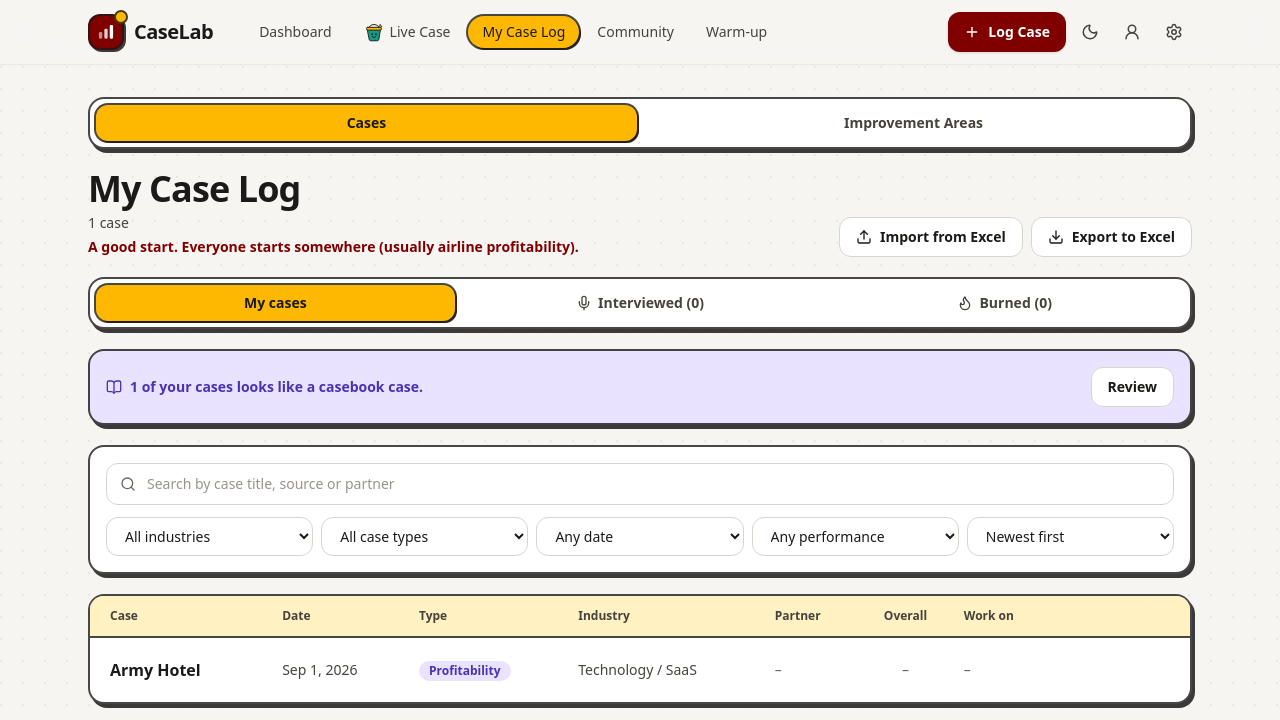
Test: compare with the book › is offered on a case linked to a casebook case that has your feedback, and does nothing until you ask
The width and height of the screenshot is (1280, 720).
Expected: the heading "My Case Log" is shown, [88,164,300,213]
Click the button "Army Hotel". click: (155, 670)
box: [110,659,201,681]
(page scrolled)
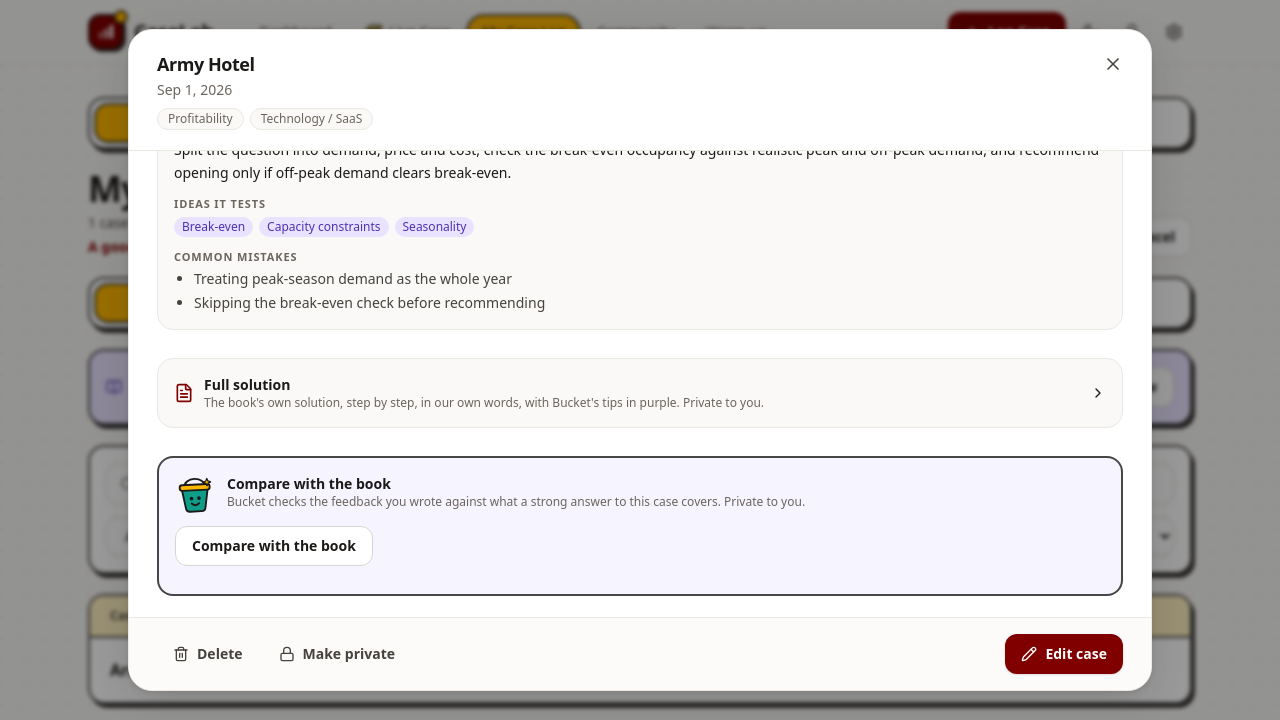
Expected: the button "Compare with the book" is enabled, [175,526,373,566]
Expected: the text "Private to you" is shown, [227,493,805,510]
